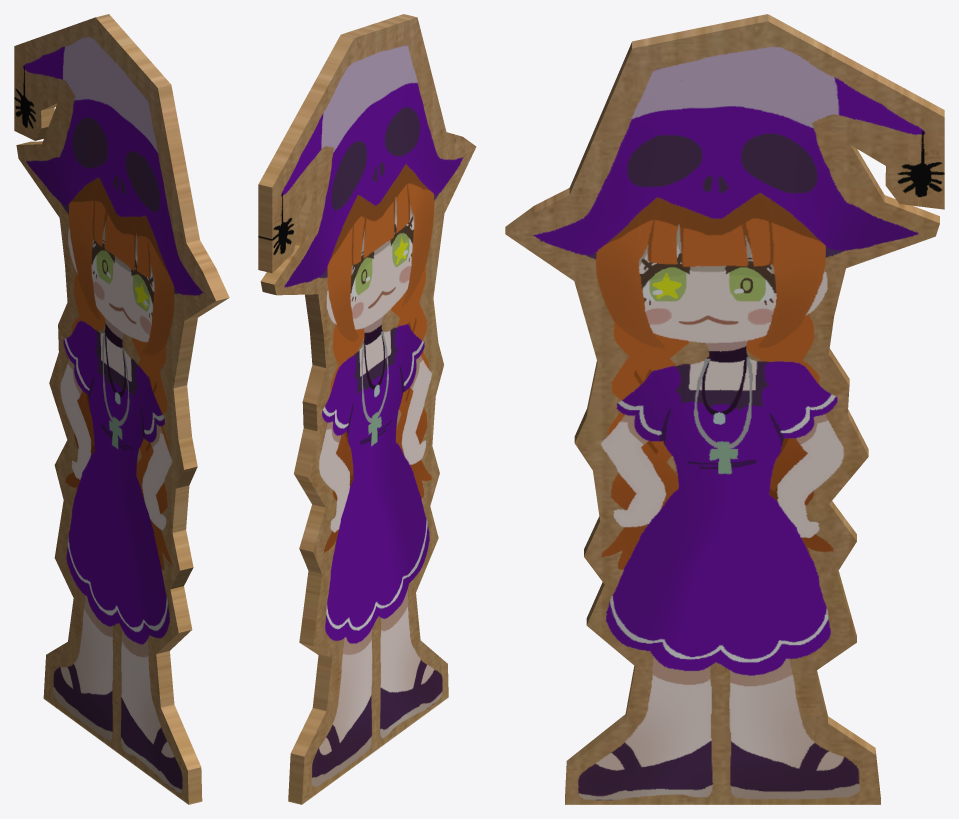
Rendered from NPC_Base_4_Witch.glb.
3 renders of one model, left to right at view 1: azimuth 30°, elevation 25°; view 2: azimuth 150°, elevation 25°; view 3: azimuth 270°, elevation 25°, orthographic. The views are drawn at different scales.
Visible parts, largest first — view 1: NPC_Base_4_Witch; view 2: NPC_Base_4_Witch; view 3: NPC_Base_4_Witch.
Part boxes in pixels (x1=…): NPC_Base_4_Witch: x1=14, y1=14, x2=229, y2=804; NPC_Base_4_Witch: x1=258, y1=14, x2=476, y2=804; NPC_Base_4_Witch: x1=505, y1=14, x2=944, y2=804.
Size of the model in its own units: 0.0407 by 2.06 by 1.04.
Materials: 1 (1 with a texture image).
